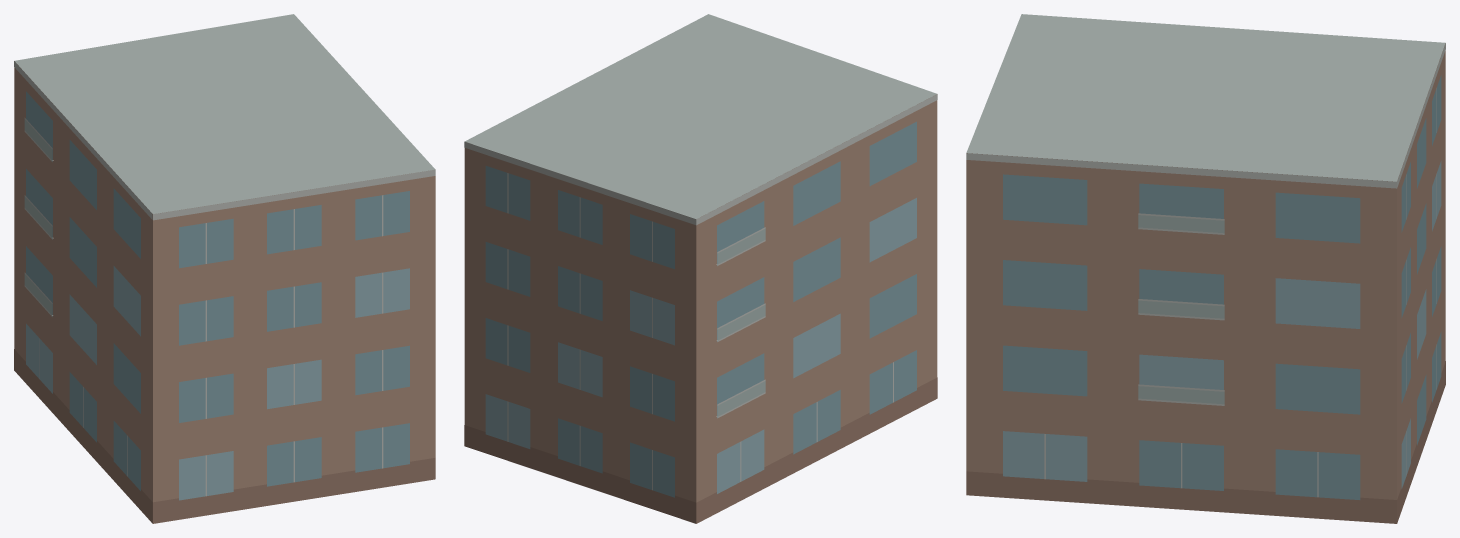
The model's file is survey-upis-32847222.glb.
The picture shows the model from 3 angles, left to right: view 1: azimuth 30°, elevation 25°; view 2: azimuth 150°, elevation 25°; view 3: azimuth 270°, elevation 25°; orthographic projection. The views are drawn at different scales.
Parts seen in each view (by area): view 1: survey-upis-32847222.tmp; view 2: survey-upis-32847222.tmp; view 3: survey-upis-32847222.tmp.
Boxes of the visible parts, x1=… form: survey-upis-32847222.tmp: x1=14, y1=14, x2=435, y2=523; survey-upis-32847222.tmp: x1=464, y1=14, x2=937, y2=523; survey-upis-32847222.tmp: x1=966, y1=14, x2=1445, y2=523.
Bounding box in the file's own units: 12.83 × 12.2 × 15.5.
